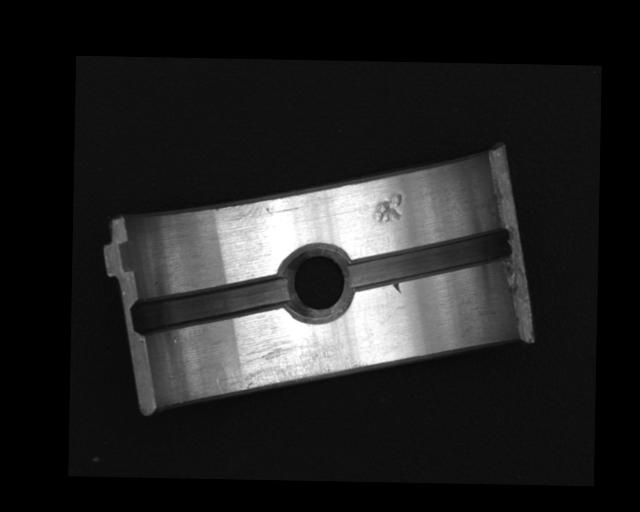bruise: (372, 191, 404, 223), (392, 281, 402, 295)
gap: (347, 227, 514, 293), (130, 271, 289, 336)
hole: (279, 244, 354, 322)
scratch: (215, 327, 360, 399)
